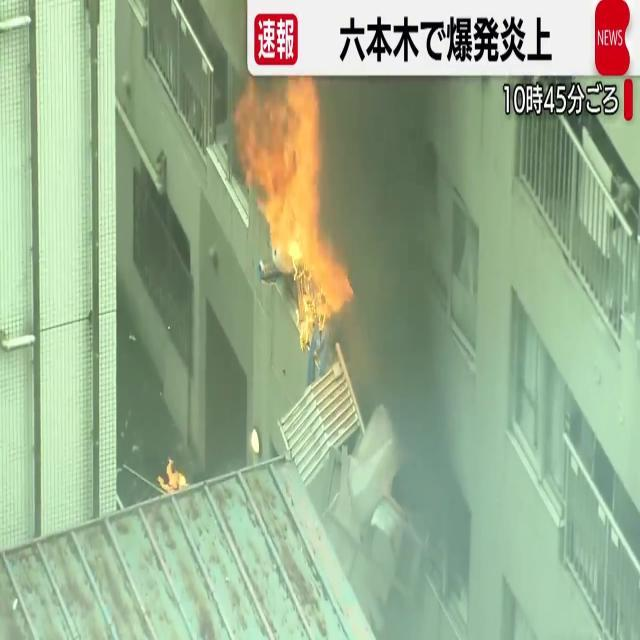Fire: (246, 74, 342, 343)
